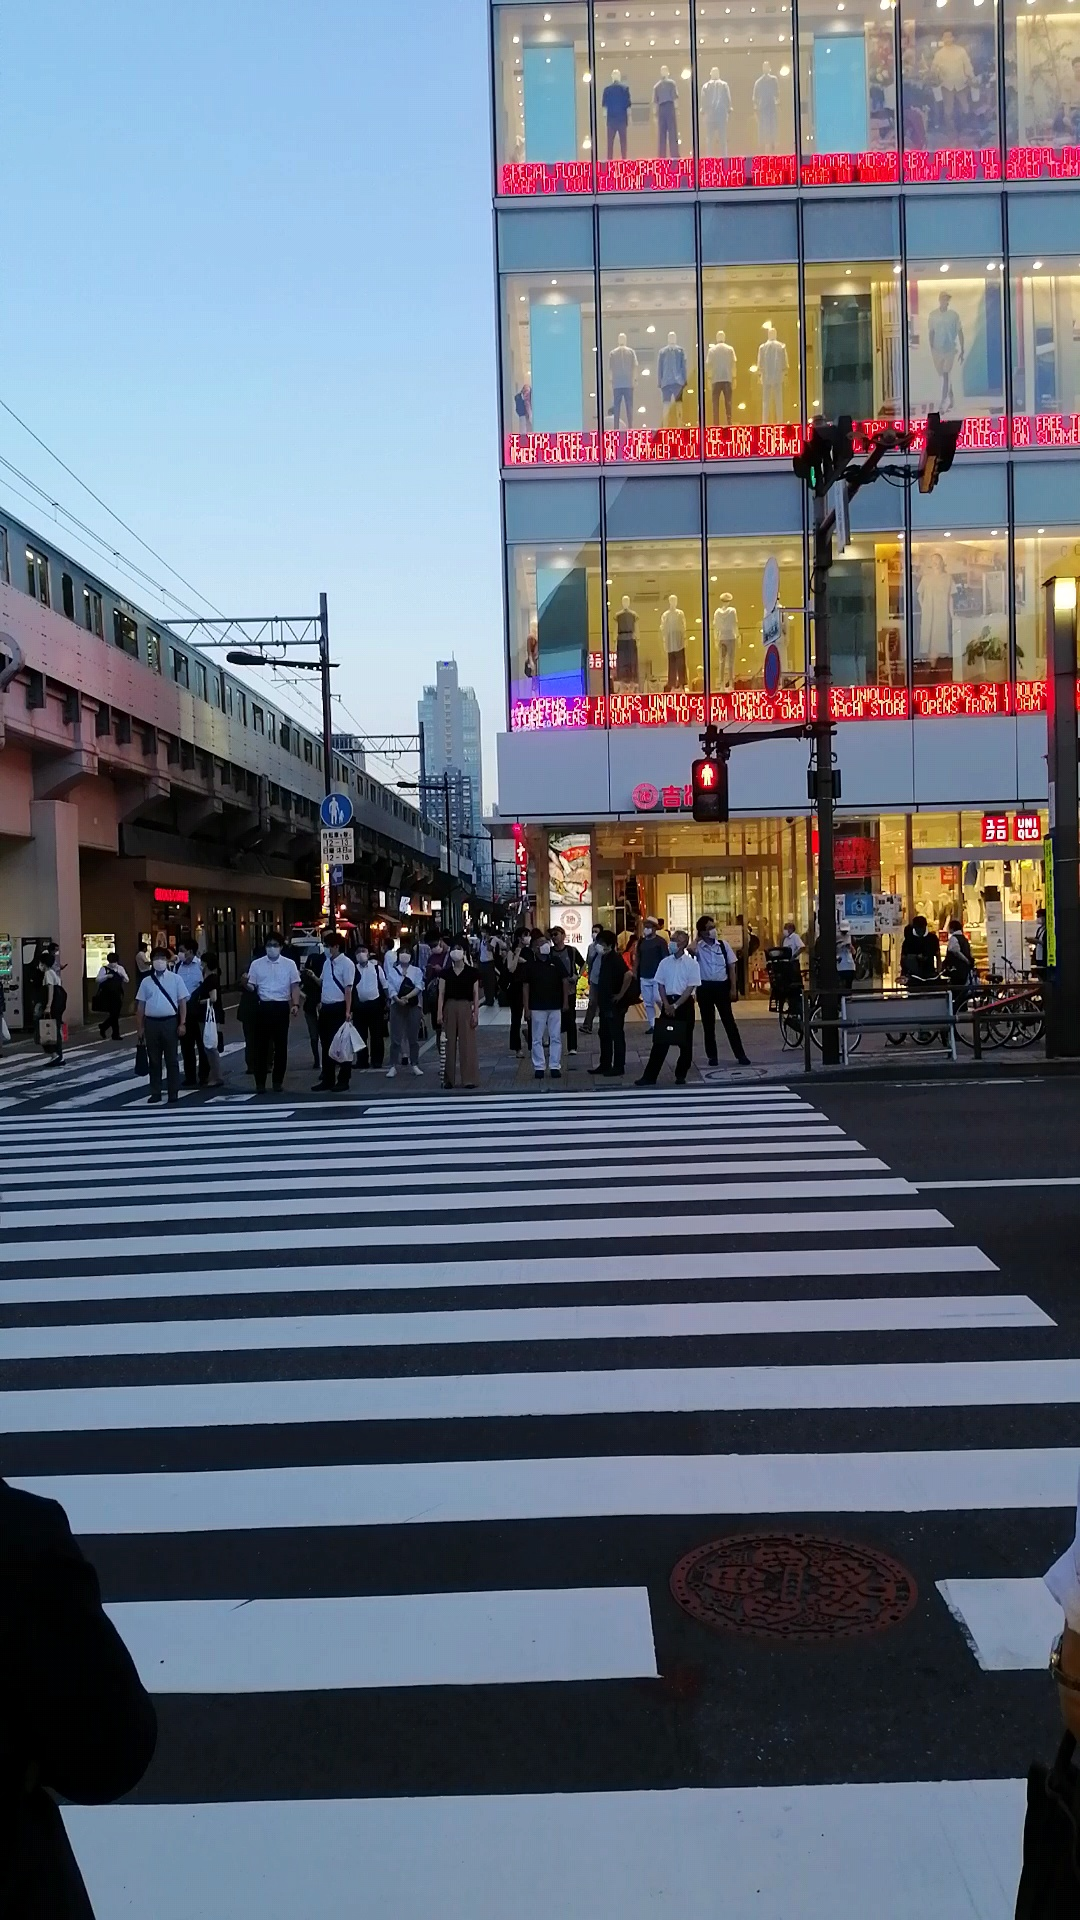red: (691, 758, 727, 822)
